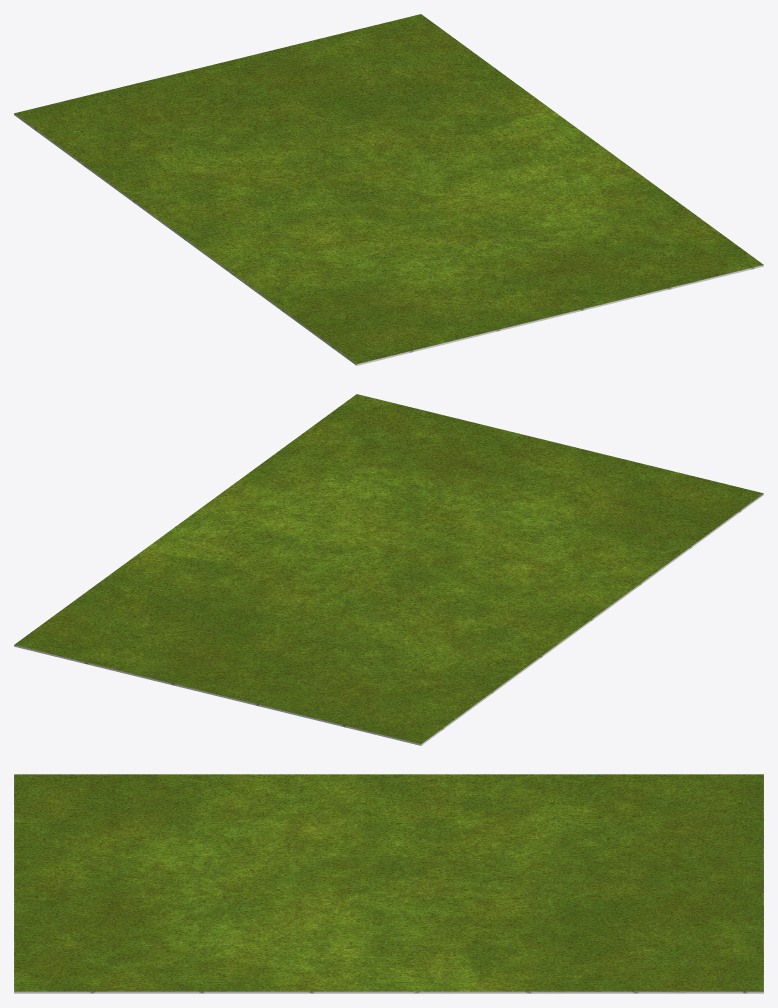
The model's file is Football Block_root.fbx.
The picture shows the model from 3 angles, top to bottom: view 1: azimuth 30°, elevation 25°; view 2: azimuth 150°, elevation 25°; view 3: azimuth 270°, elevation 25°; orthographic projection. The views are drawn at different scales.
Parts seen in each view (by area): view 1: Football_Block_sh_111, Football_Block_sh_6, Football_Block_sh_8, Football_Block_sh_12, Football_Block_sh_21, Football_Block_sh_24, Football_Block_sh_27, Football_Block_sh_36, Football_Block_sh_39, Football_Block_sh_40, Football_Block_sh_49, Football_Block_sh_51 (+164 smaller); view 2: Football_Block_sh_1, Football_Block_sh_2, Football_Block_sh_6, Football_Block_sh_7, Football_Block_sh_8, Football_Block_sh_3, Football_Block_sh_5, Football_Block_sh_9, Football_Block_sh_4, Football_Block_sh_10, Football_Block_sh_11, Football_Block_sh_101 (+164 smaller); view 3: Football_Block_sh_23, Football_Block_sh_67, Football_Block_sh_122, Football_Block_sh_1, Football_Block_sh_12, Football_Block_sh_34, Football_Block_sh_56, Football_Block_sh_78, Football_Block_sh_89, Football_Block_sh_100, Football_Block_sh_111, Football_Block_sh_133 (+164 smaller).
Part boxes in pixels (bbox=[...]): Football_Block_sh_111: bbox=[600, 172, 658, 196]; Football_Block_sh_6: bbox=[197, 59, 255, 84]; Football_Block_sh_8: bbox=[122, 78, 180, 102]; Football_Block_sh_12: bbox=[406, 30, 463, 54]; Football_Block_sh_21: bbox=[69, 112, 127, 136]; Football_Block_sh_24: bbox=[390, 55, 448, 79]; Football_Block_sh_27: bbox=[277, 82, 335, 106]; Football_Block_sh_36: bbox=[374, 79, 432, 104]; Football_Block_sh_39: bbox=[262, 107, 320, 131]; Football_Block_sh_40: bbox=[224, 116, 282, 140]; Football_Block_sh_49: bbox=[321, 113, 379, 138]; Football_Block_sh_51: bbox=[246, 132, 304, 156]; Football_Block_sh_1: bbox=[14, 629, 72, 655]; Football_Block_sh_2: bbox=[51, 638, 109, 664]; Football_Block_sh_6: bbox=[201, 674, 259, 701]; Football_Block_sh_7: bbox=[238, 684, 296, 710]; Football_Block_sh_8: bbox=[275, 693, 334, 719]; Football_Block_sh_3: bbox=[88, 647, 147, 673]; Football_Block_sh_5: bbox=[163, 665, 221, 691]; Football_Block_sh_9: bbox=[313, 702, 371, 728]; Football_Block_sh_4: bbox=[126, 656, 184, 682]; Football_Block_sh_10: bbox=[350, 711, 408, 737]; Football_Block_sh_11: bbox=[388, 720, 442, 745]; Football_Block_sh_101: bbox=[246, 496, 304, 520]; Football_Block_sh_23: bbox=[622, 971, 669, 993]; Football_Block_sh_67: bbox=[433, 971, 480, 993]; Football_Block_sh_122: bbox=[197, 971, 244, 993]; Football_Block_sh_1: bbox=[716, 971, 763, 993]; Football_Block_sh_12: bbox=[669, 971, 716, 993]; Football_Block_sh_34: bbox=[575, 971, 622, 993]; Football_Block_sh_56: bbox=[480, 971, 527, 993]; Football_Block_sh_78: bbox=[386, 971, 433, 993]; Football_Block_sh_89: bbox=[339, 971, 386, 993]; Football_Block_sh_100: bbox=[291, 971, 338, 993]; Football_Block_sh_111: bbox=[244, 971, 291, 993]; Football_Block_sh_133: bbox=[150, 971, 197, 993].
Size of the model in its own units: 2287 by 9.08 by 3335.
1 material, 1 textured.
